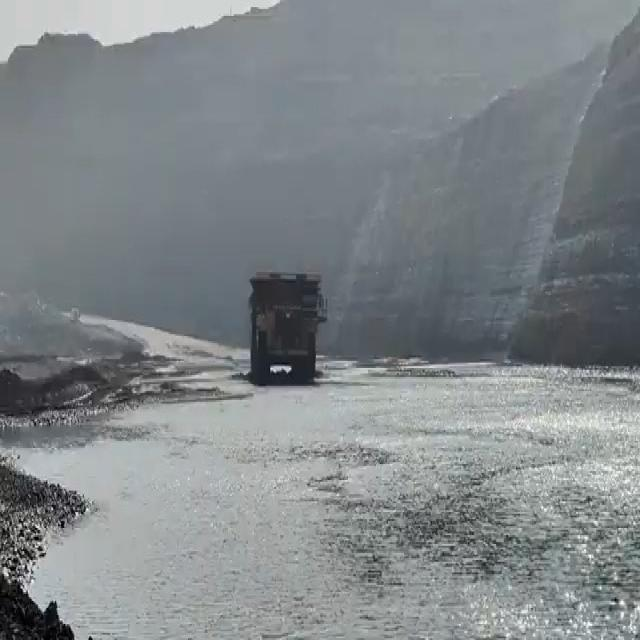dump_truck: (243, 272, 325, 381)
